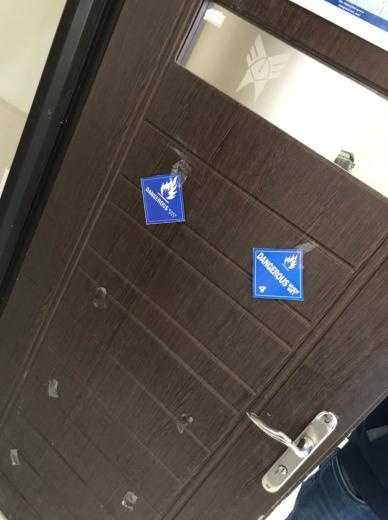Dangerous when wet: (252, 247, 304, 302), (140, 173, 185, 225)
